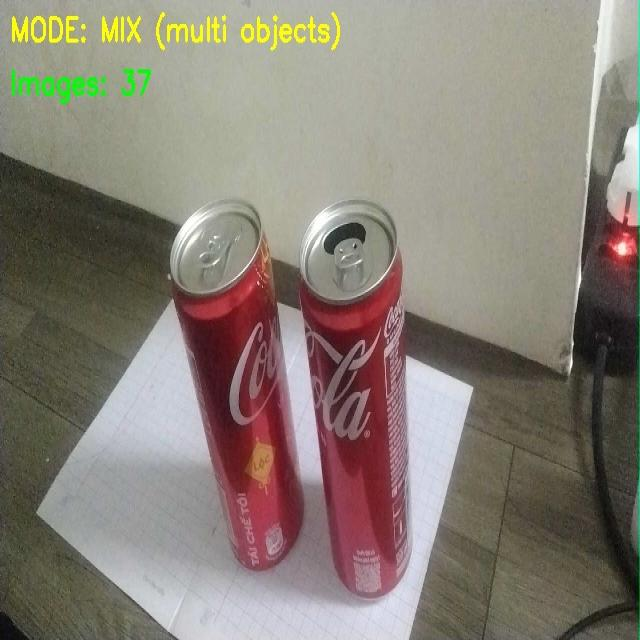Coca: (154, 159, 310, 590)
Coca_open: (296, 163, 458, 614)
